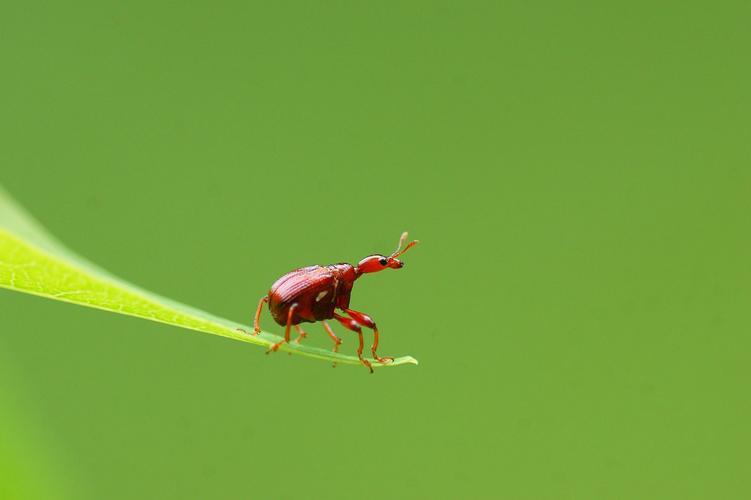Curculionidae: (236, 231, 420, 376)
